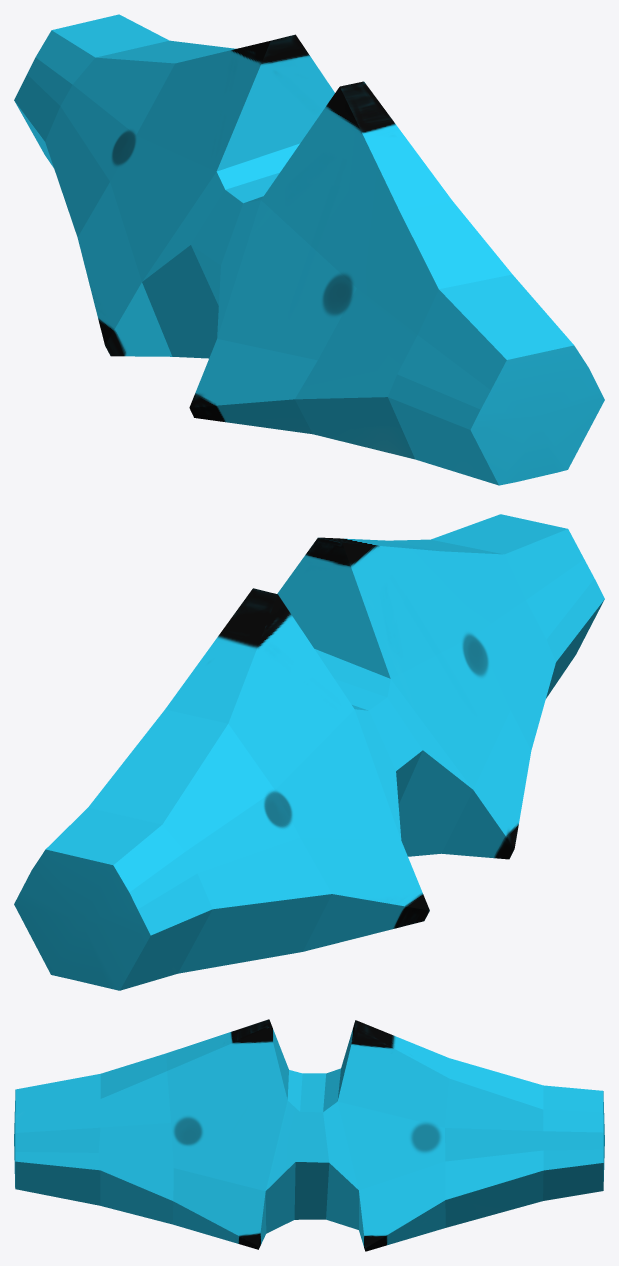
Rendered from cure002_02.fbx.
3 renders of one model, top to bottom at view 1: azimuth 30°, elevation 25°; view 2: azimuth 150°, elevation 25°; view 3: azimuth 270°, elevation 25°, orthographic. The views are drawn at different scales.
Visible parts, largest first — view 1: polySurface42; view 2: polySurface42; view 3: polySurface42.
Part boxes in pixels (bbox=[...]): polySurface42: bbox=[14, 14, 604, 485]; polySurface42: bbox=[14, 514, 604, 990]; polySurface42: bbox=[14, 1019, 604, 1251].
Bounding box in the file's own units: 3.27 × 2.91 × 8.19.
Materials: 1 (1 with a texture image).
